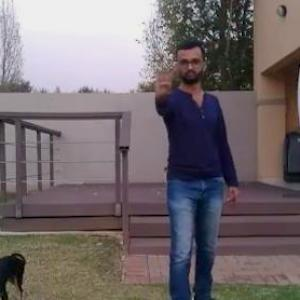takeoff-hand: (146, 58, 176, 100)
